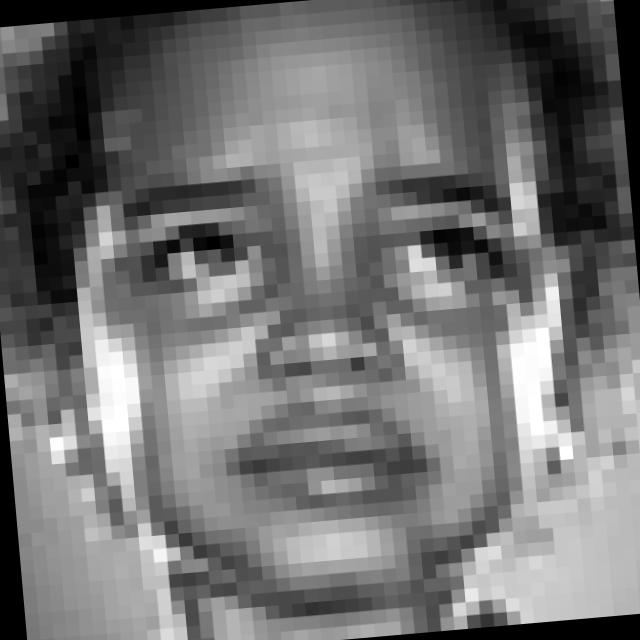sad: (104, 112, 544, 530)
